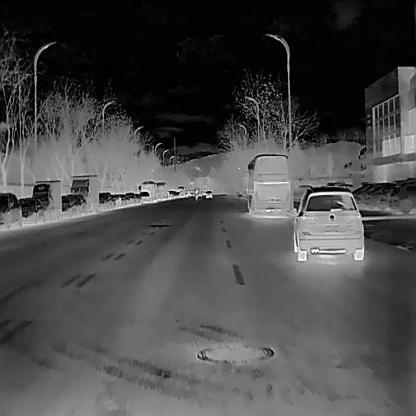car: (292, 185, 364, 261), (245, 153, 291, 215), (31, 178, 61, 218), (70, 173, 98, 214), (377, 179, 410, 210), (363, 180, 397, 209), (388, 178, 415, 214), (355, 182, 389, 209), (0, 191, 21, 231), (18, 196, 44, 224), (61, 193, 87, 216), (141, 179, 158, 203), (97, 190, 112, 212), (157, 180, 167, 200), (110, 193, 123, 208), (124, 192, 136, 206), (138, 191, 149, 202), (176, 185, 185, 197), (133, 193, 141, 205), (205, 189, 212, 198)
